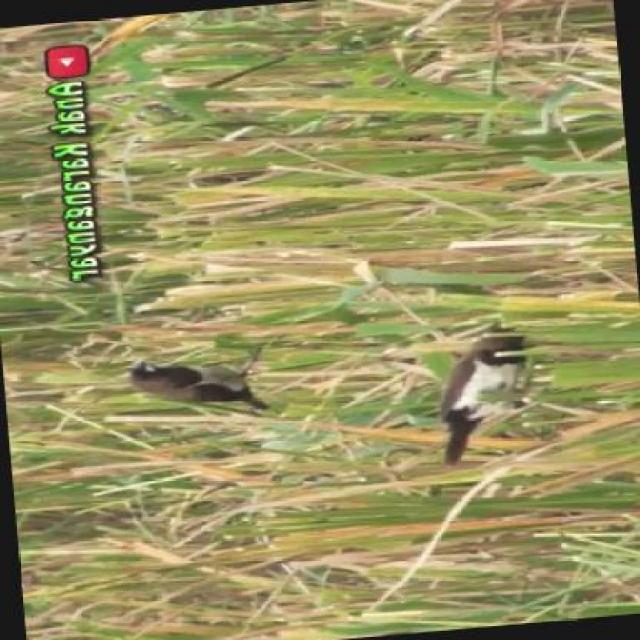Bird: (433, 324, 562, 480), (123, 352, 285, 427)
